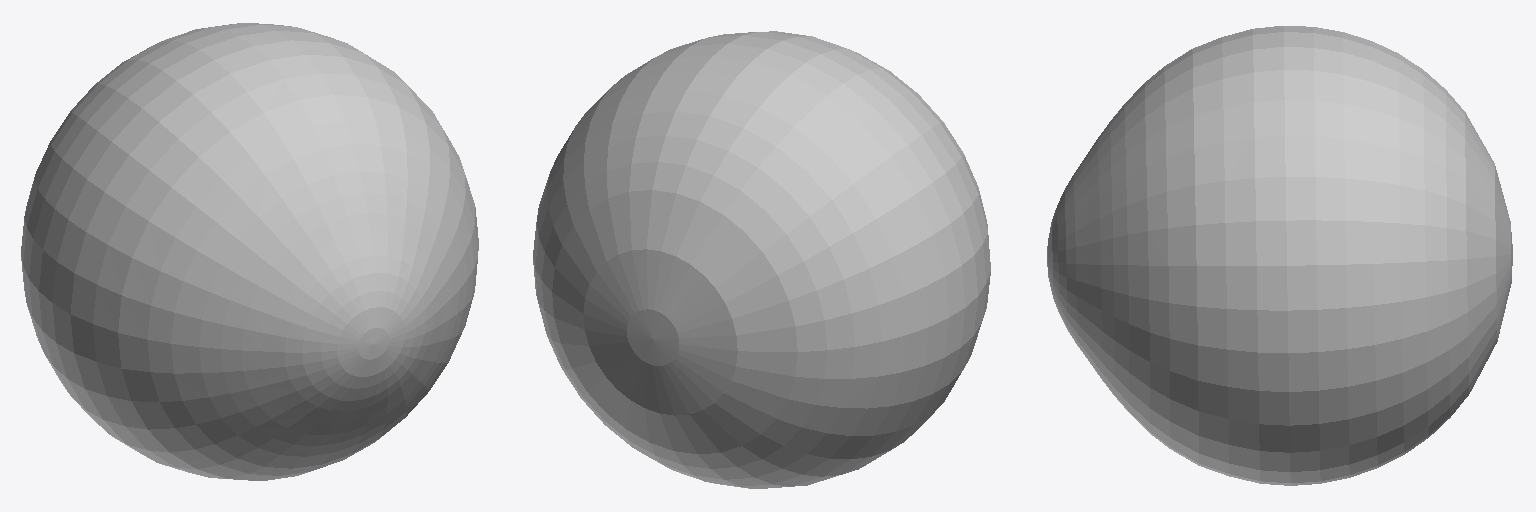
Rendered from eyeLeft_mesh_move.obj.
3 renders of one model, left to right at view 1: azimuth 30°, elevation 25°; view 2: azimuth 150°, elevation 25°; view 3: azimuth 270°, elevation 25°, orthographic.
Parts seen in each view (by area): view 1: eyeLeft_mesh:Mesh; view 2: eyeLeft_mesh:Mesh; view 3: eyeLeft_mesh:Mesh.
Boxes of the visible parts, x1=… form: eyeLeft_mesh:Mesh: x1=21, y1=23, x2=478, y2=480; eyeLeft_mesh:Mesh: x1=533, y1=31, x2=990, y2=488; eyeLeft_mesh:Mesh: x1=1047, y1=26, x2=1512, y2=485.
Bounding box in the file's own units: 0.2902 × 0.2888 × 0.2923.